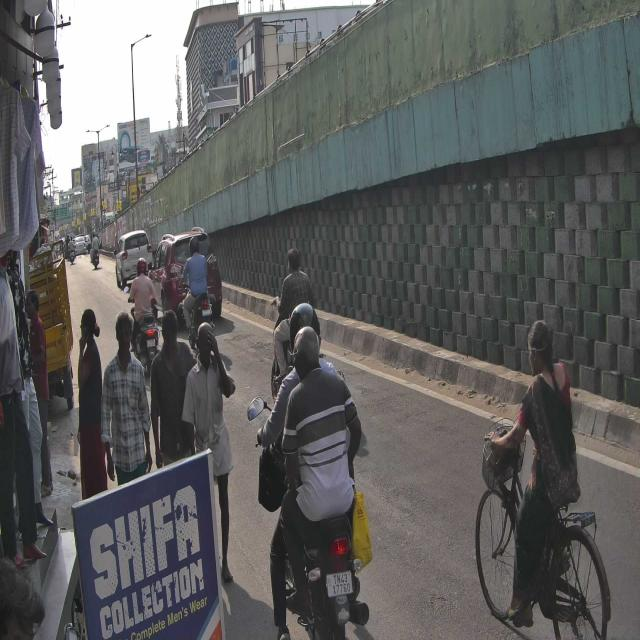double_rider: (252, 299, 370, 640)
